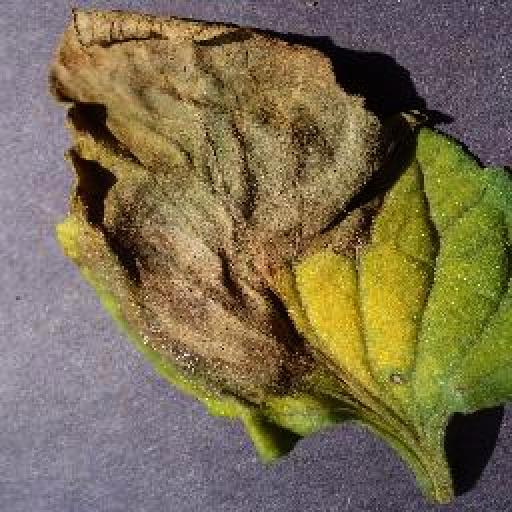disease_tomato: (50, 0, 512, 458)
